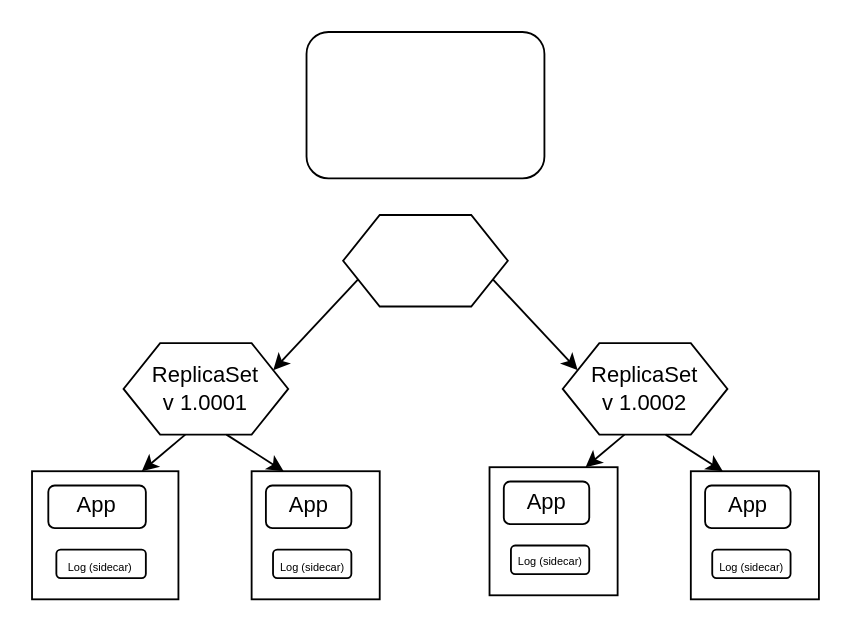
The diagram is 851 pixels wide and 631 high, and some of its shapes have lost their labels. The centre of each missing label's shape, as x and y in pixels:
Deployment: [424,260]
Service Discovery > ClusterIp > LoadBalancer > nodePort: [424,104]
